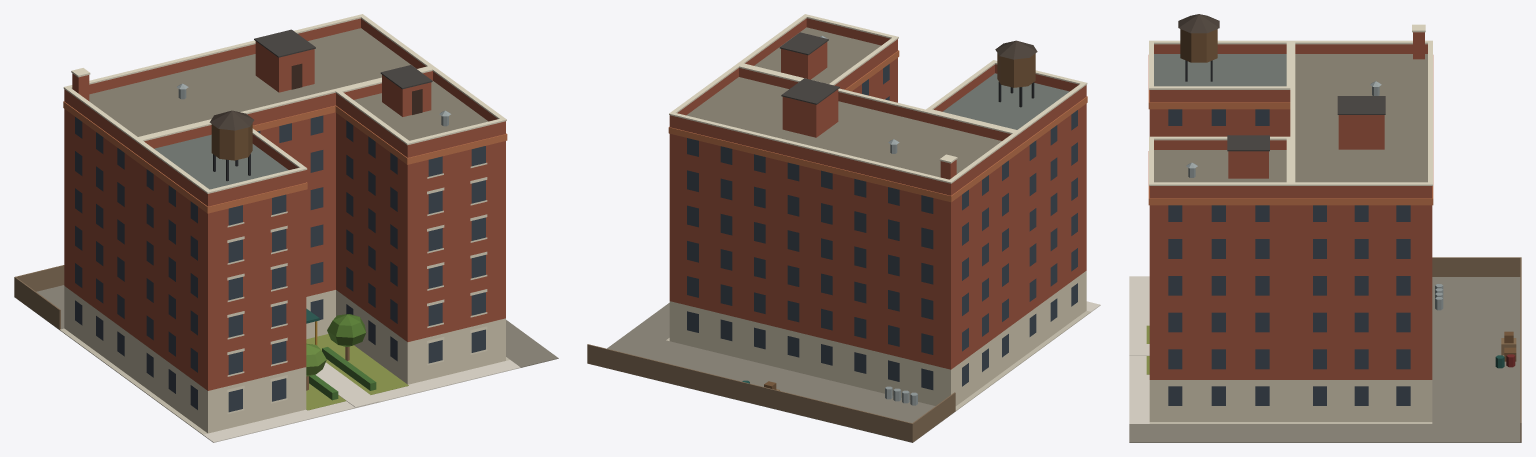
The model's file is modernflats.glb.
The picture shows the model from 3 angles, left to right: view 1: azimuth 30°, elevation 25°; view 2: azimuth 150°, elevation 25°; view 3: azimuth 270°, elevation 25°; orthographic projection. The views are drawn at different scales.
Parts seen in each view (by area): view 1: modernflats; view 2: modernflats; view 3: modernflats.
Boxes of the visible parts, <box> form: modernflats: <box>14,14,558,442</box>; modernflats: <box>587,14,1100,442</box>; modernflats: <box>1129,14,1521,442</box>.
Size of the model in its own units: 30 by 24.38 by 30.
